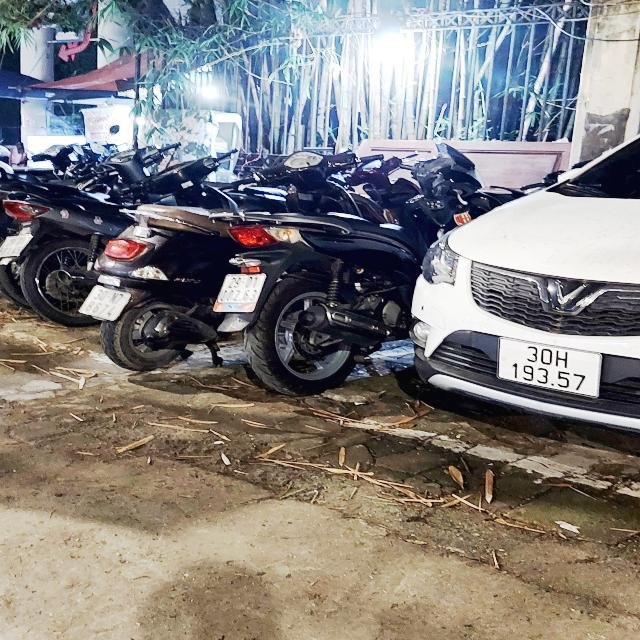license_plate: (492, 334, 605, 401)
